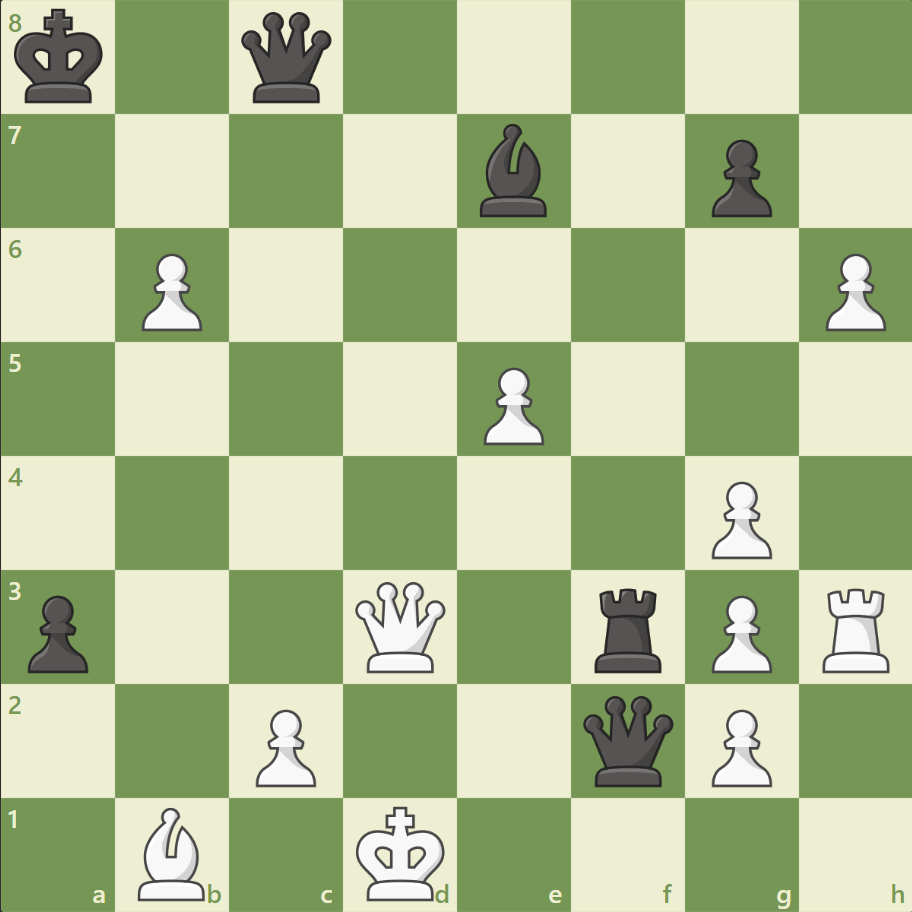B: (131, 801, 215, 904)
K: (351, 798, 451, 906)
P: (133, 246, 208, 337), (474, 359, 549, 450), (701, 473, 776, 564), (701, 586, 776, 677), (247, 700, 322, 791), (701, 700, 776, 791), (815, 246, 889, 337)
Q: (351, 576, 450, 676)
R: (814, 579, 897, 676)
b: (471, 120, 555, 222)
k: (11, 4, 111, 112)
p: (701, 132, 776, 223), (20, 586, 95, 677)
q: (237, 9, 336, 108), (578, 690, 677, 789)
r: (587, 579, 670, 676)
